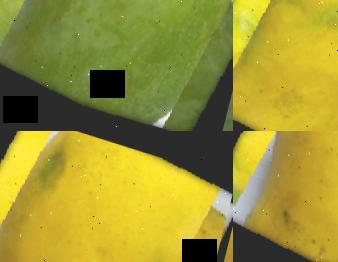Ripe: (0, 131, 233, 262), (233, 0, 338, 131), (233, 131, 338, 262)
Unripe: (0, 0, 233, 131)
